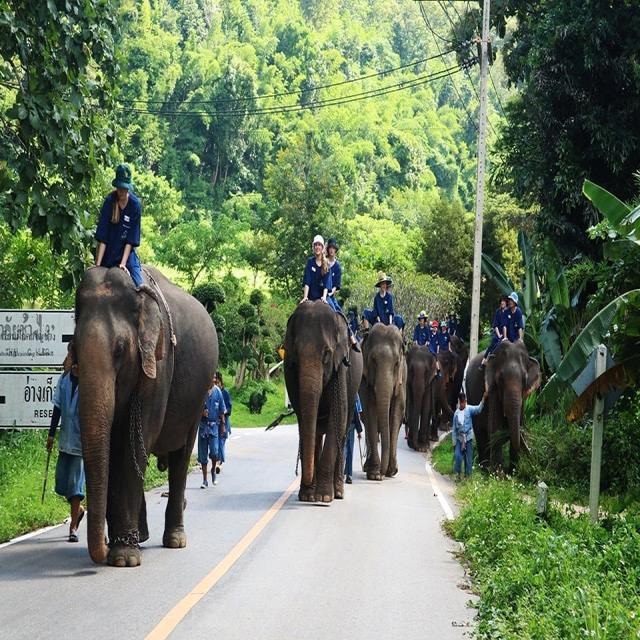Elephant: (59, 249, 218, 605), (272, 299, 361, 533), (466, 328, 544, 487), (365, 312, 408, 506), (406, 334, 440, 474)
